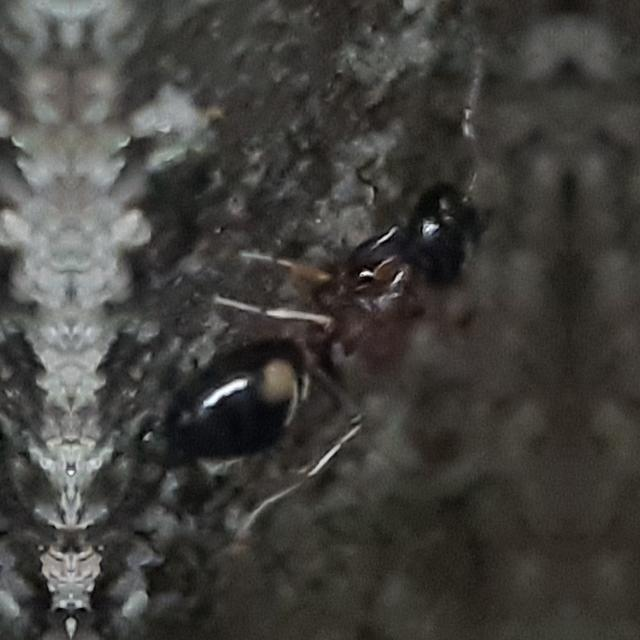Dolichoderus: (79, 70, 538, 538)
